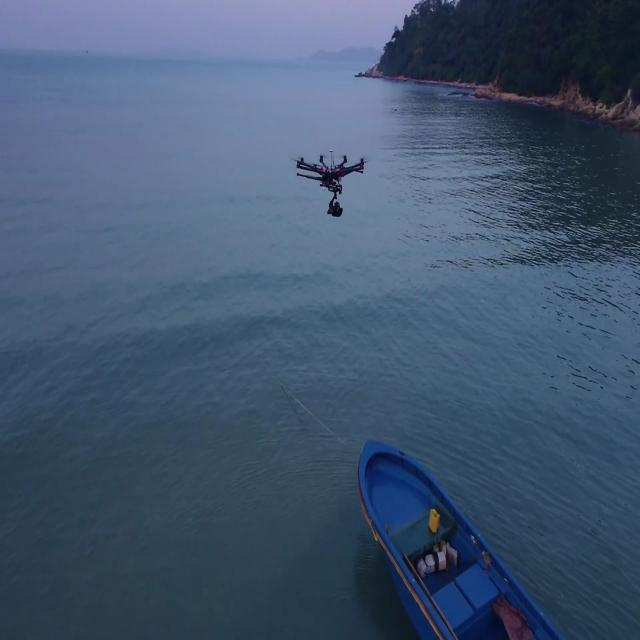drone: (283, 132, 385, 229)
